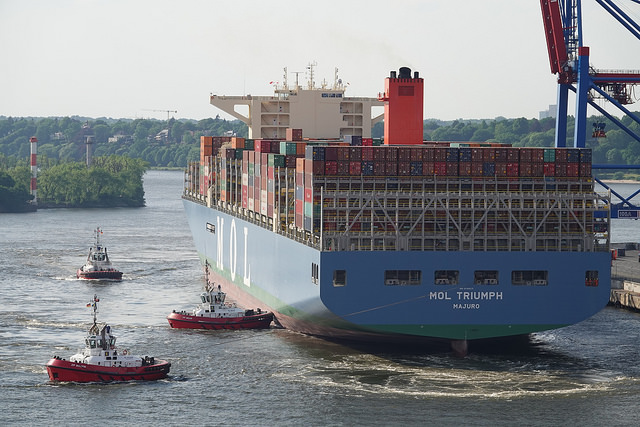container_ship: (184, 68, 609, 353)
tug_boat: (45, 299, 172, 386), (170, 269, 278, 331), (78, 229, 124, 282)
